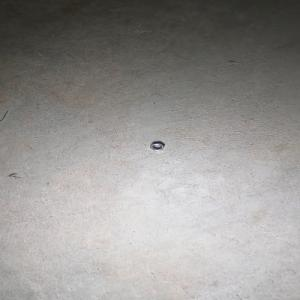Nut: (149, 142, 165, 151)
